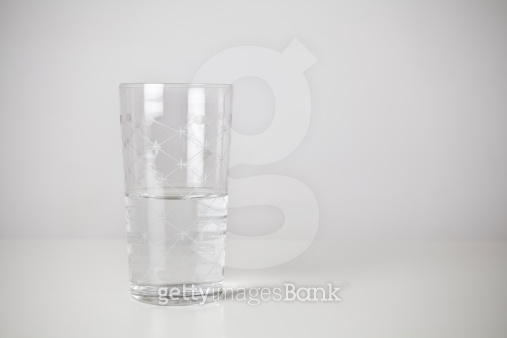glass of water: (114, 77, 235, 309)
